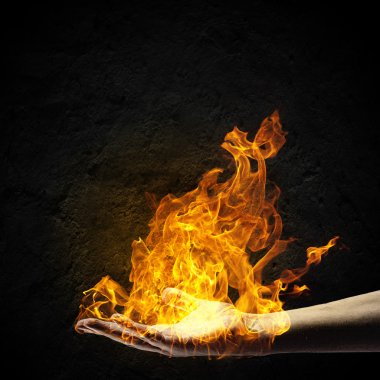fire: (105, 110, 309, 331)
